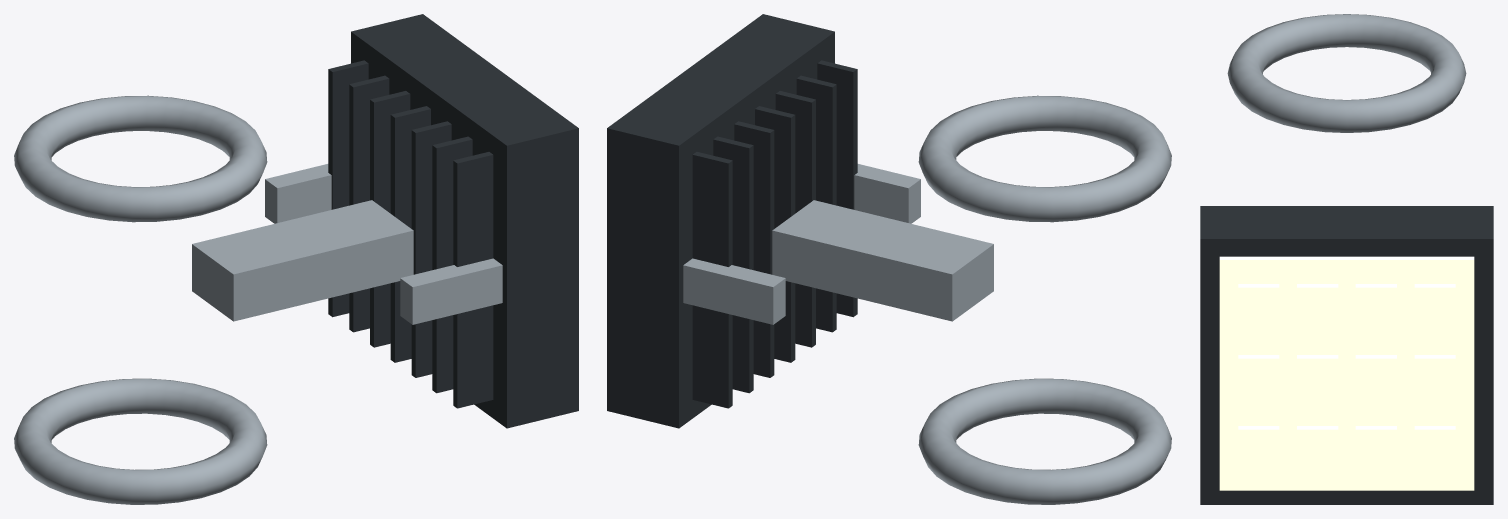
The model's file is refletor-frontal.glb.
3 views of the same model, side by side, from view 1: azimuth 30°, elevation 25°; view 2: azimuth 150°, elevation 25°; view 3: azimuth 270°, elevation 25° (orthographic). The views are drawn at different scales.
Visible parts, largest first — view 1: Carcaça do refletor, refletor-frontal, Aleta de dissipação (×7), Suporte central, Suporte lateral (×2); view 2: Carcaça do refletor, refletor-frontal, Aleta de dissipação (×7), Suporte central, Suporte lateral (×2); view 3: Lente frontal +X, Carcaça do refletor, Módulo LED (×12), refletor-frontal.
Part boxes in pixels (<box>): Carcaça do refletor: <box>351,14,578,428</box>; refletor-frontal: <box>14,95,267,504</box>; Aleta de dissipação (×7): <box>328,60,493,408</box>; Suporte central: <box>192,200,413,321</box>; Suporte lateral (×2): <box>265,164,502,324</box>; Carcaça do refletor: <box>607,14,834,428</box>; refletor-frontal: <box>918,95,1171,504</box>; Aleta de dissipação (×7): <box>692,60,857,408</box>; Suporte central: <box>772,200,993,321</box>; Suporte lateral (×2): <box>683,164,920,324</box>; Lente frontal +X: <box>1219,256,1474,490</box>; Carcaça do refletor: <box>1200,206,1493,504</box>; Módulo LED (×12): <box>1238,284,1455,470</box>; refletor-frontal: <box>1227,14,1466,132</box>.
Size of the model in its own units: 0.2695 by 0.168 by 0.15.
